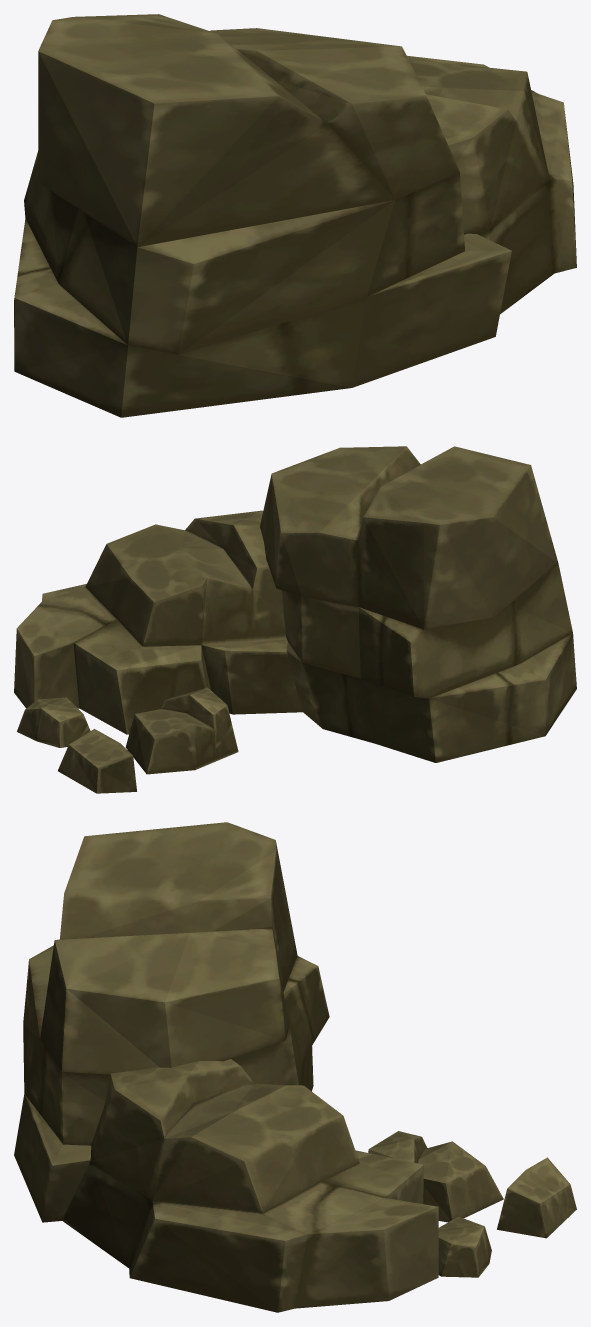
The model's file is rockwall_end_03.fbx.
The picture shows the model from 3 angles, top to bottom: view 1: azimuth 30°, elevation 25°; view 2: azimuth 150°, elevation 25°; view 3: azimuth 270°, elevation 25°; orthographic projection. The views are drawn at different scales.
Parts seen in each view (by area): view 1: obj0.139; view 2: obj0.139; view 3: obj0.139.
Part boxes in pixels (<box>): obj0.139: <box>14,14,576,417</box>; obj0.139: <box>14,446,576,793</box>; obj0.139: <box>14,822,576,1312</box>.
Bounding box in the file's own units: 4.1 × 1.88 × 3.79.
